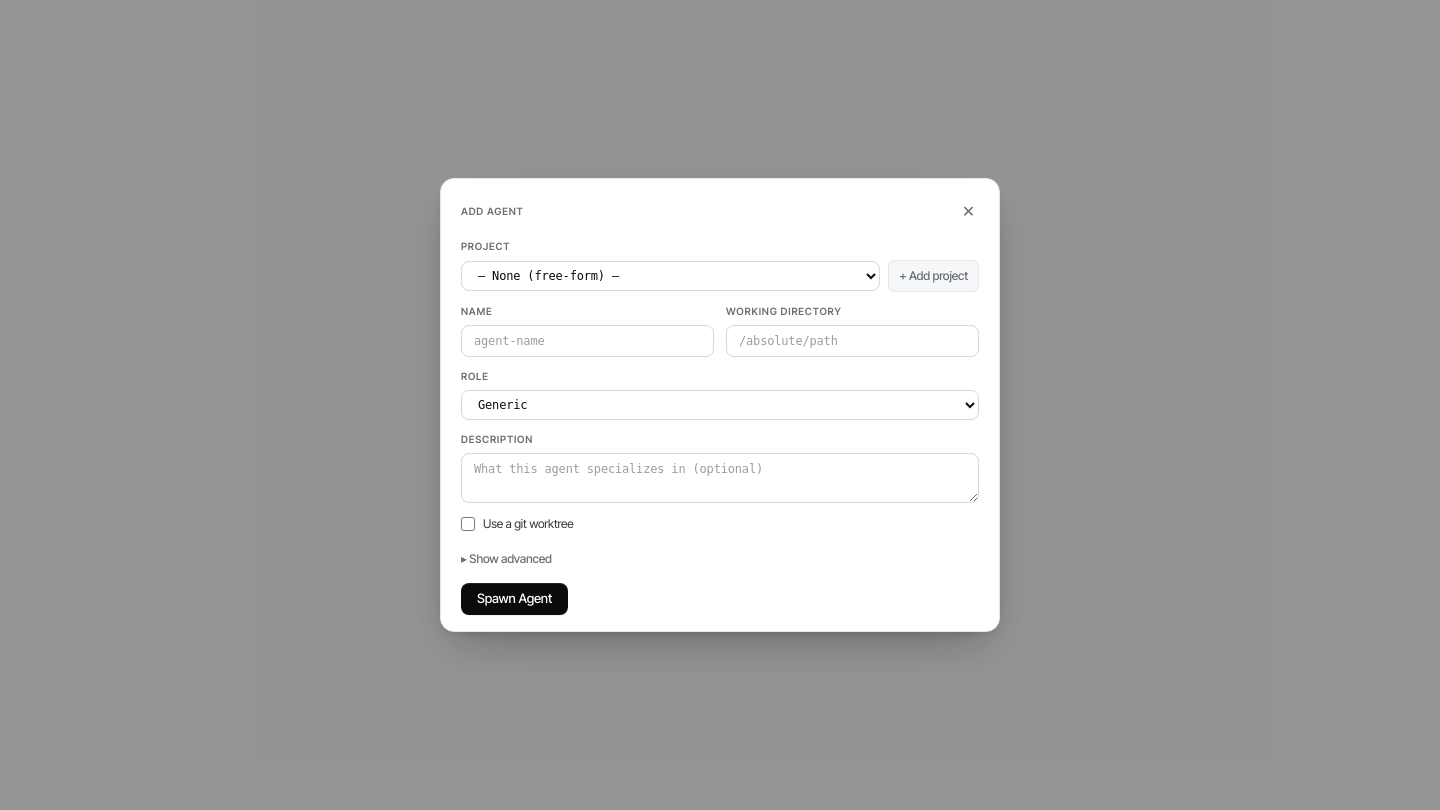
Test case: AddAgentForm defaultProjectId (TASK-0232) › does not overwrite a project the user picked before the list resolved
This screenshot has width=1440, height=810.
Select "— None (free-form) —" in the dropdown labelled "Project" at [671, 276], box [461,261,880,291]
Click the button "▸ Show advanced" at [506, 559], box [461,553,552,565]
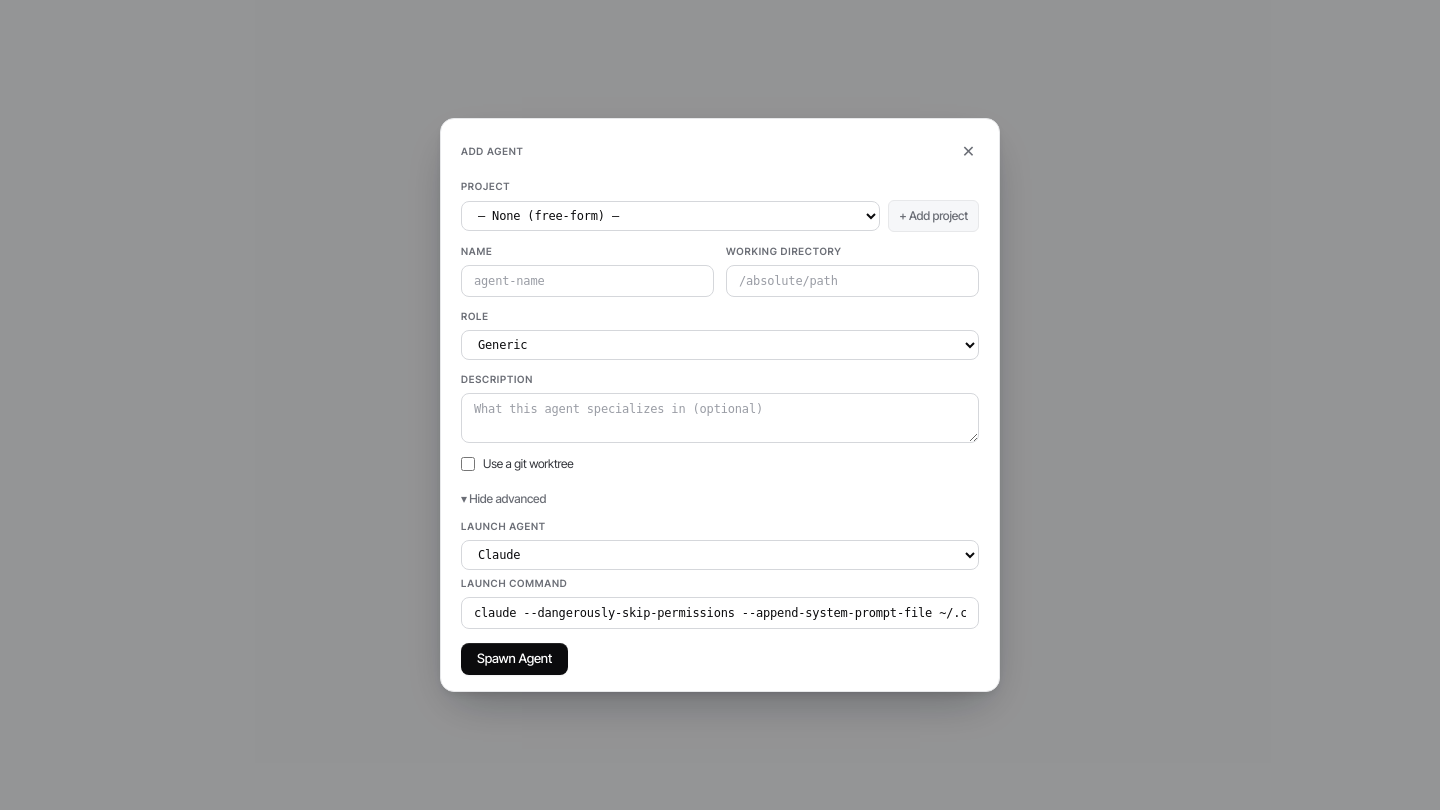
Expected: the field labelled "Launch Command" does not hold "codex", [461,597,979,629]
